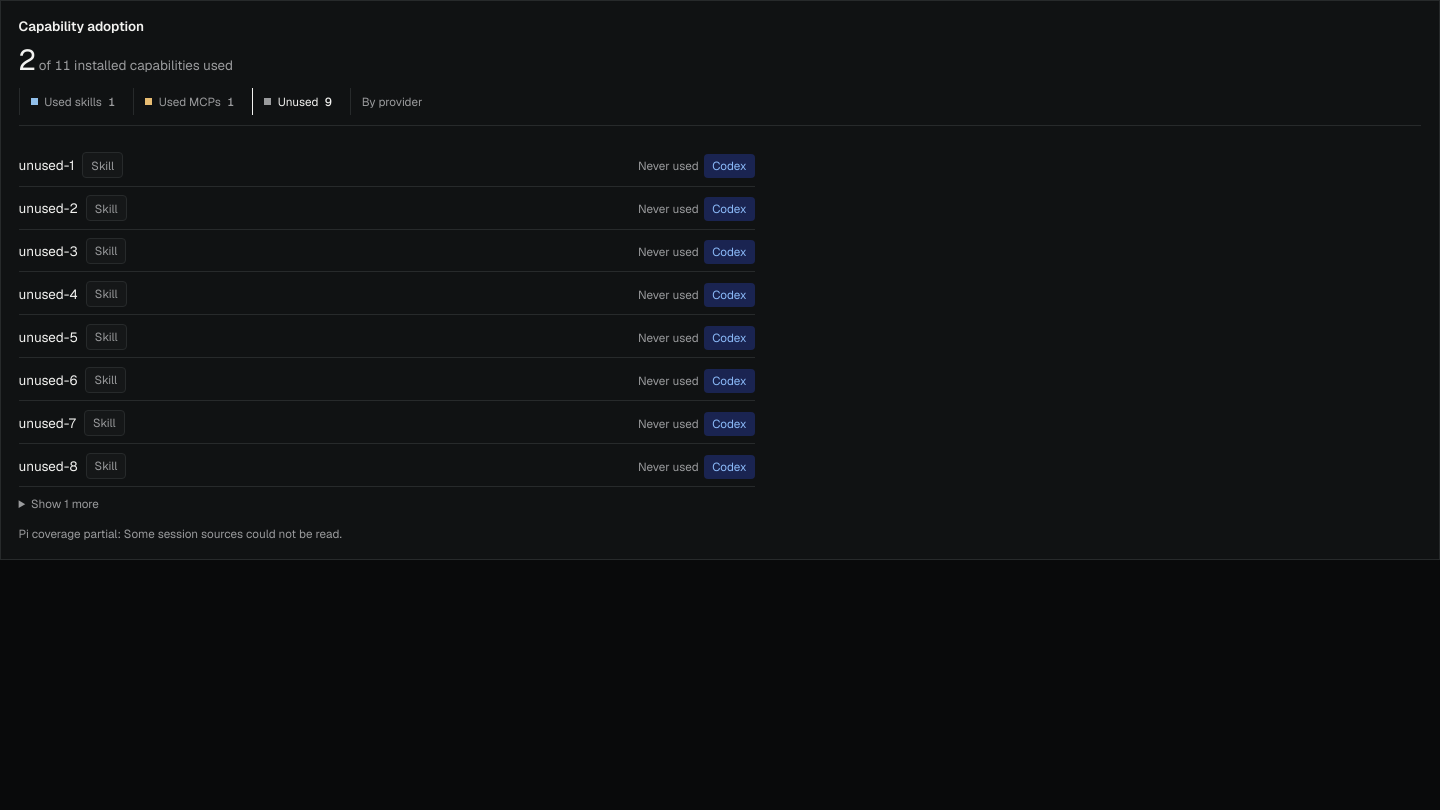
CapabilityUsageCard › renders the unused list and its coverage caveat on the unused tab
Expected: the text "Never used" in the row of "unused-1" is shown, [638,158,699,173]
What coordinates should you click on to do the following:
click the heading "Show 1 more"
I would click on:
 (65, 504)
Its box is [31,496,99,511].
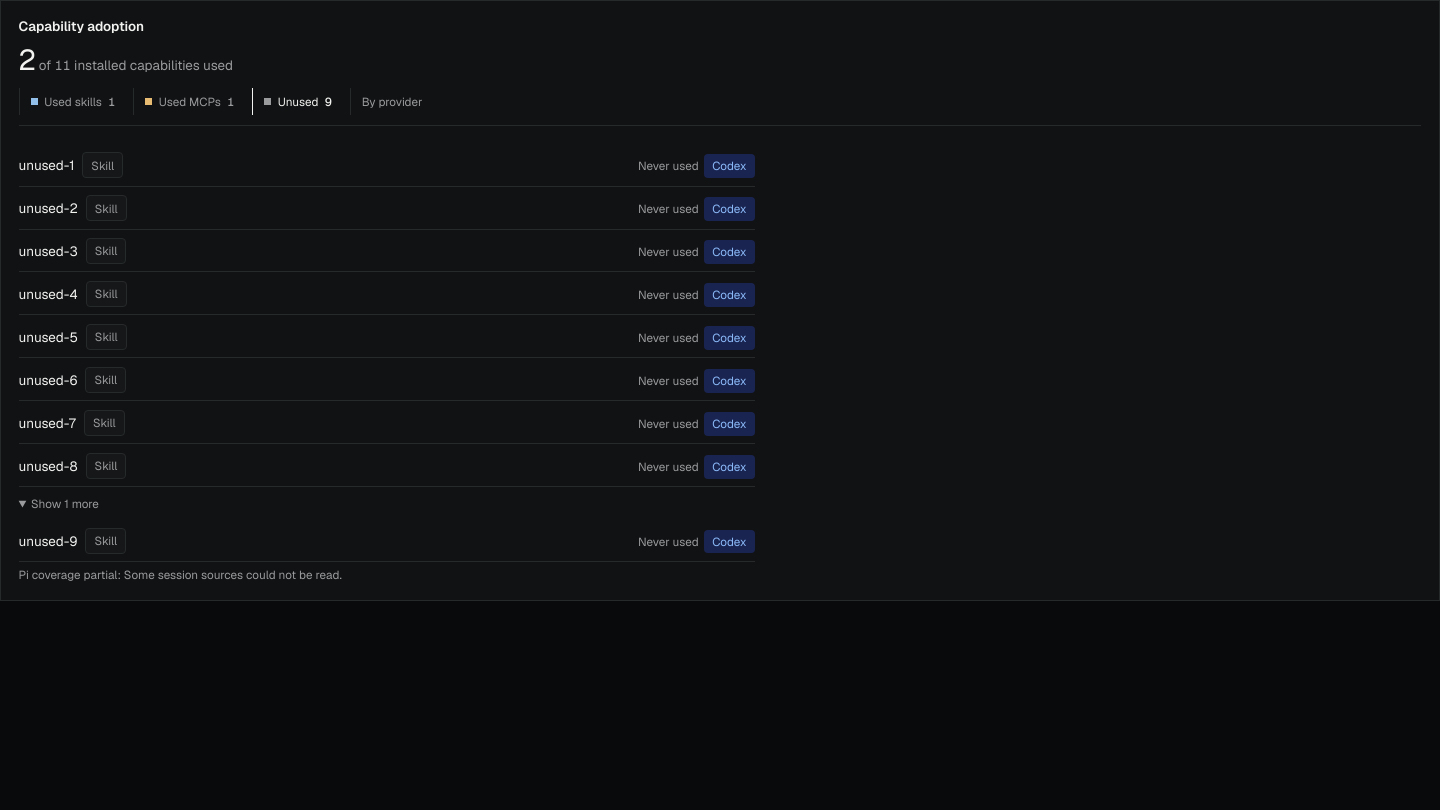
Expected: the text "Pi coverage partial: Some session sources could not be read." is shown, [19,567,342,582]
Expected: the text "Never used" in the row of "unused-9" is shown, [638,534,699,549]
